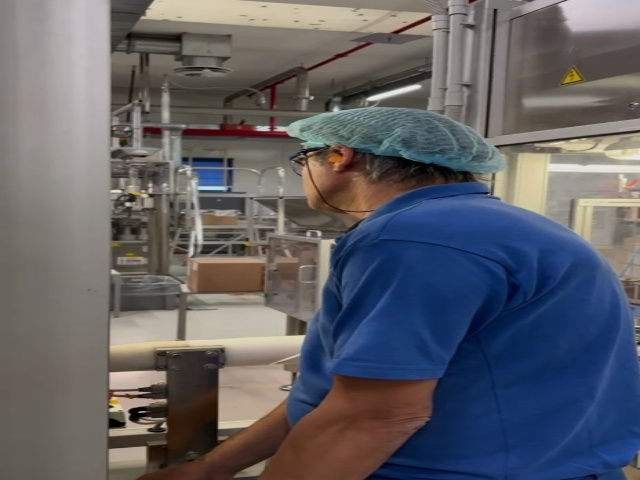Earplug: (321, 146, 354, 173)
Hairnet: (287, 105, 506, 170)
No_Helmet: (287, 110, 502, 171)
No_Vest: (299, 213, 640, 480)
Person: (285, 104, 640, 480)
Safety_Goggles: (288, 144, 329, 168)
